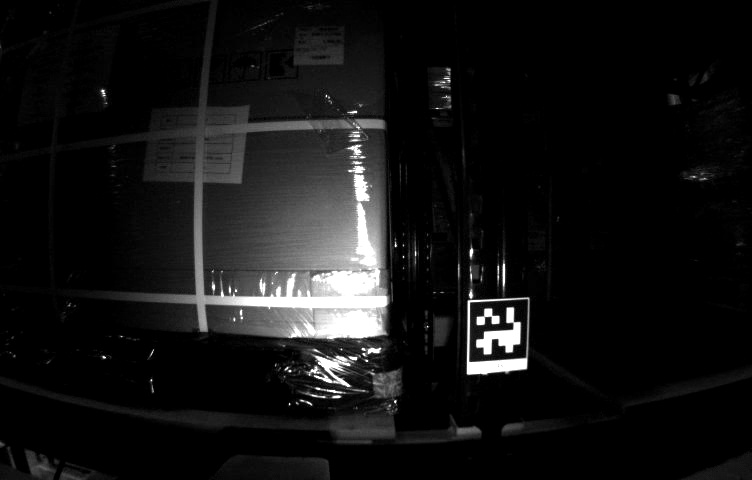True Barcode: (296, 26, 343, 64)
